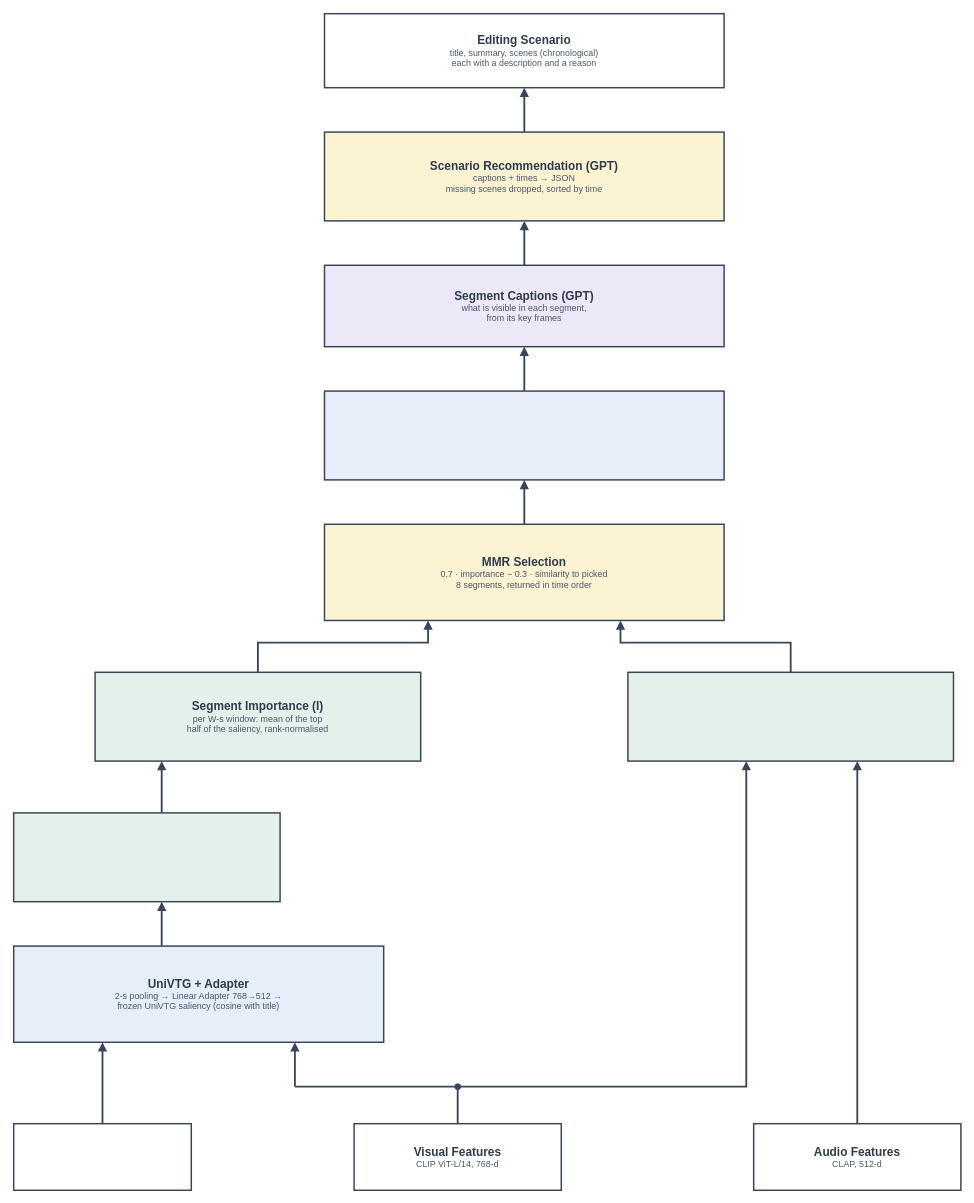
This 974x1203 diagram has some shape labels left out. The box of each missing label's shape, as (x1, y1, x2, y2) in pixels:
Key Frames ≈ 1 per 8 s (2–5) + importance peak 1024 px, detail = high: (323, 390, 724, 480)
Saliency Score (S) UniVTG saliency only (no audio): (13, 812, 280, 902)
Segment Content Vector per W-s window: mean of [ CLIP ; 0.5 · CLAP ]: (627, 671, 954, 761)
Video Title file name: (13, 1123, 192, 1191)
